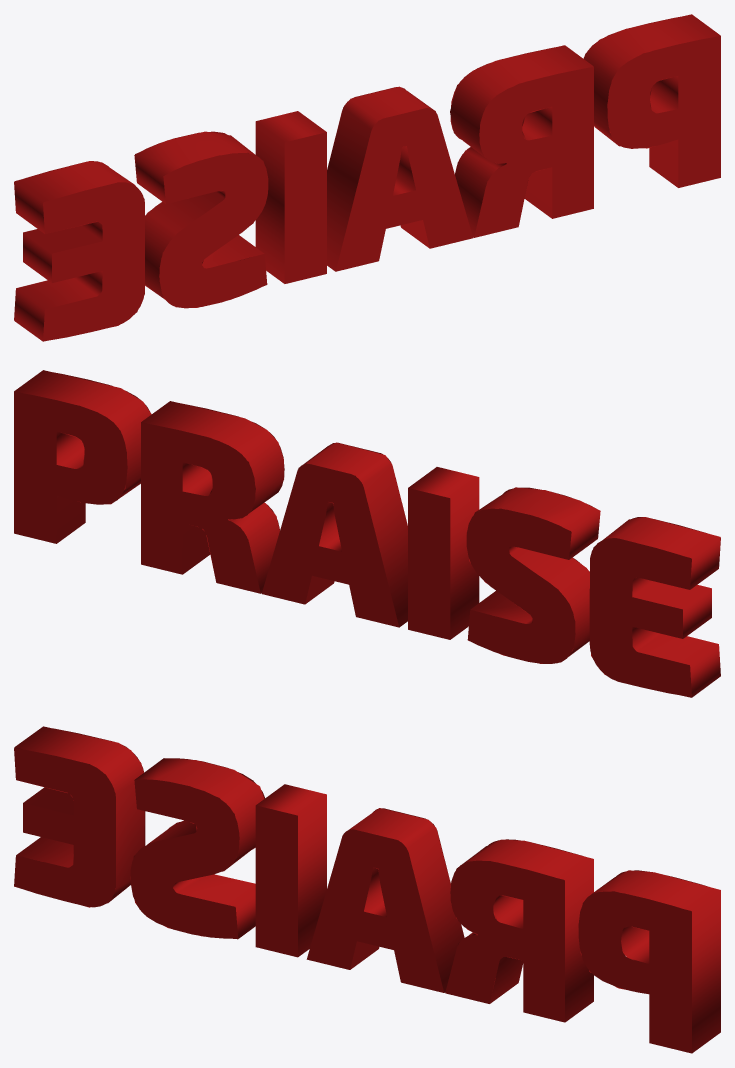
File: praise.fbx
3 views of the same model, one above another, from view 1: azimuth 30°, elevation 25°; view 2: azimuth 150°, elevation 25°; view 3: azimuth 330°, elevation 25° (orthographic).
Visible parts, largest first — view 1: Text; view 2: Text; view 3: Text.
Boxes of the visible parts, x1=… form: Text: x1=14, y1=14, x2=720, y2=341; Text: x1=14, y1=370, x2=720, y2=697; Text: x1=14, y1=726, x2=720, y2=1053.
Size of the model in its own units: 10.81 by 2.25 by 0.8.
